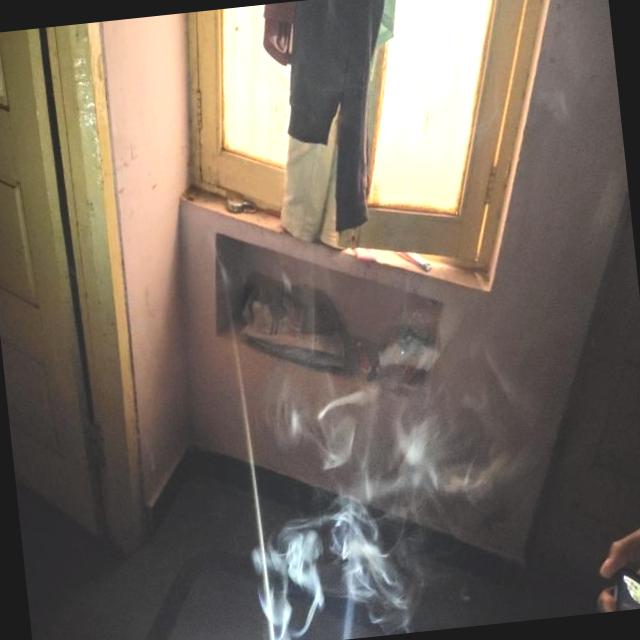smoke: (221, 286, 517, 640)
